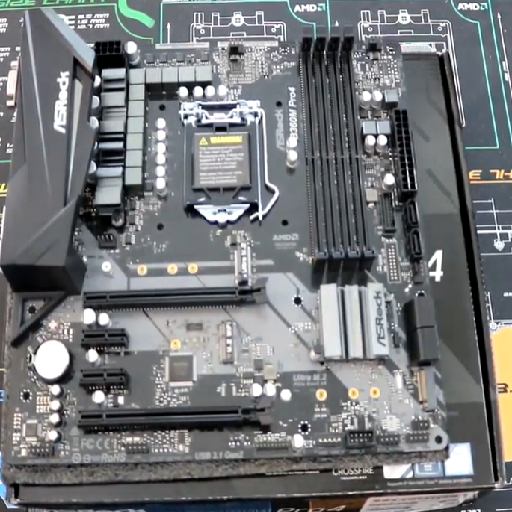CPU: (176, 99, 274, 224)
GPU: (78, 279, 274, 314), (74, 402, 279, 434)
MOTHERBOARD: (2, 7, 508, 494)
RAM: (292, 24, 381, 275)
SSD: (225, 228, 262, 289), (214, 319, 246, 367)
